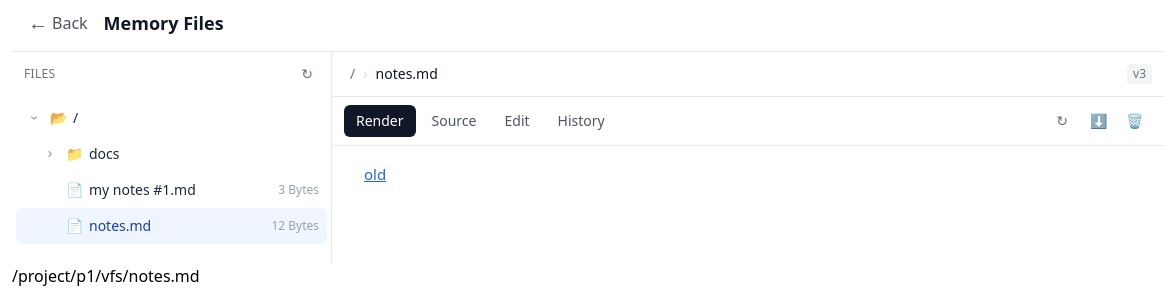
Test case: VfsManagerView › links in rendered Markdown › explain a link to nothing
What coordinates should you click on to do the following:
click the link "old"
I would click on:
 (375, 174)
Its box is x1=364 y1=164 x2=386 y2=184.
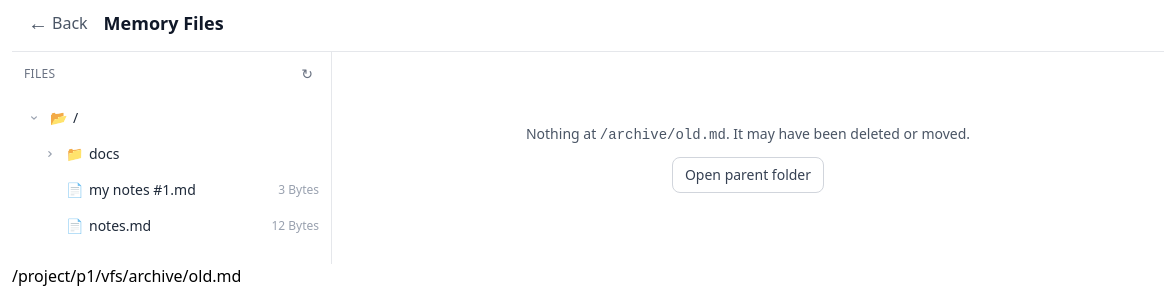
Expected: the text "It may have been deleted or moved" is shown, x1=726 y1=124 x2=970 y2=142
Expected: the text with test id "location" reads "/project/p1/vfs/archive/old.md", x1=12 y1=265 x2=241 y2=287
